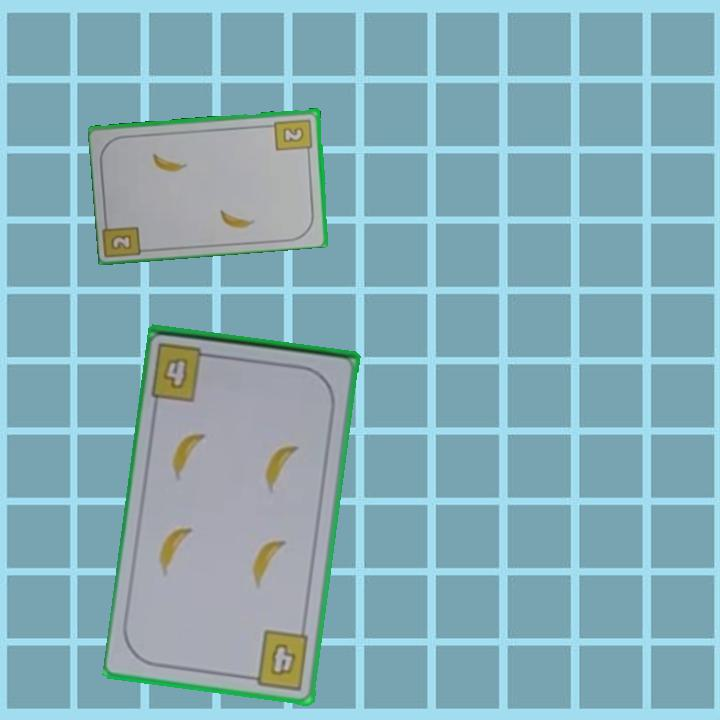2b: (272, 115, 315, 157), (107, 231, 135, 253)
4b: (148, 339, 219, 404), (244, 626, 312, 693)
